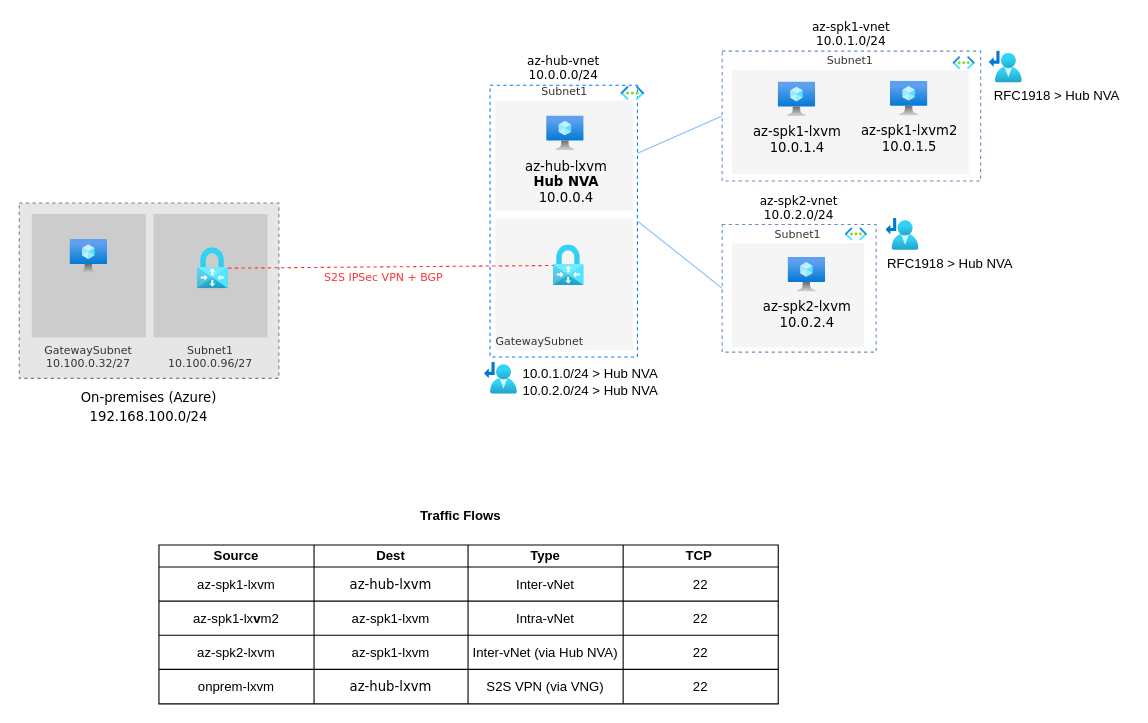
The diagram is 1148 pixels wide and 723 high, and some of its shapes have lost their labels. Here are the shapes that lost their labels. From the top down, the centre of each, then its label:
the point at 88,256: onprem-lxvm 192.168.100.4
the point at 212,267: onprem-vpngw
the point at 568,264: az-hub-vpngw
